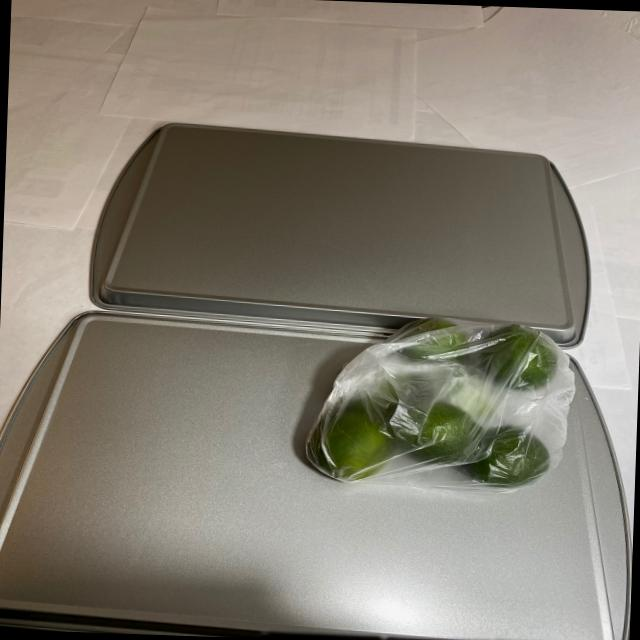lemon: (306, 314, 562, 486)
